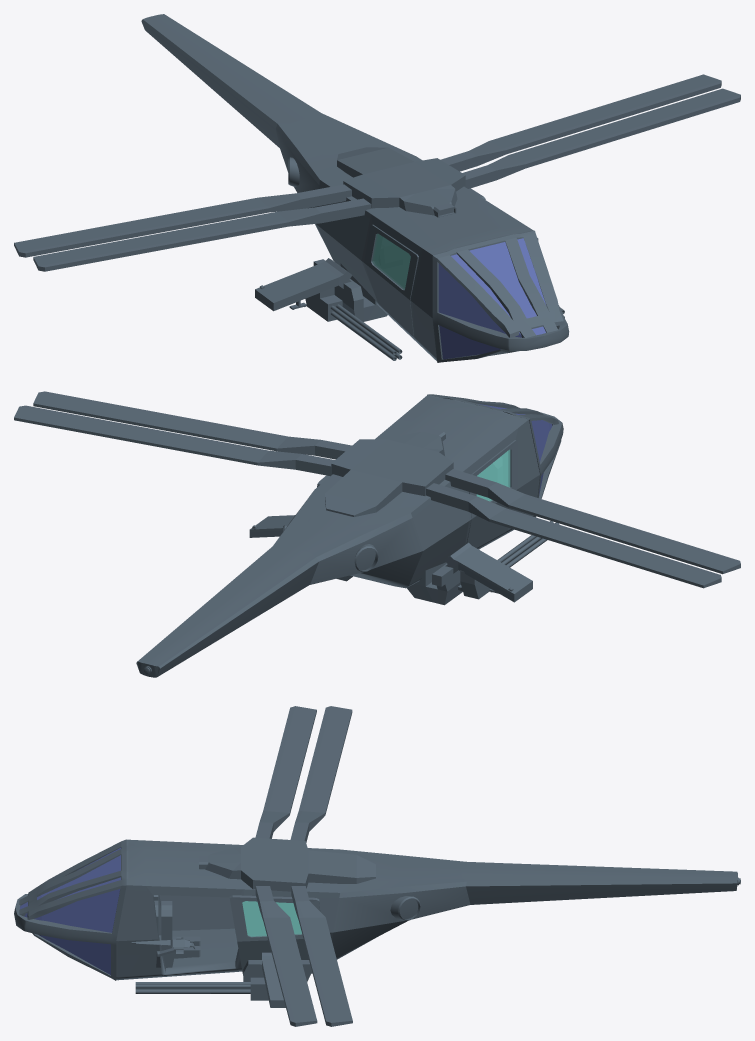
The model's file is Dragonfly.fbx.
The picture shows the model from 3 angles, top to bottom: view 1: azimuth 30°, elevation 25°; view 2: azimuth 150°, elevation 25°; view 3: azimuth 270°, elevation 25°; orthographic projection. The views are drawn at different scales.
Parts seen in each view (by area): view 1: dragonfly_hull, backblade.001, forwardblade.001, forwardblade, backblade, door_right, barrel.001; view 2: dragonfly_hull, backblade.001, forwardblade.001, backblade, forwardblade, door_right, barrel.001; view 3: dragonfly_hull, forwardblade, backblade, backblade.001, forwardblade.001, door_left, door_right, barrel.
Boxes of the visible parts, bbox=[...] form: dragonfly_hull: bbox=[141, 14, 569, 362]; backblade.001: bbox=[14, 184, 351, 257]; forwardblade.001: bbox=[33, 198, 372, 271]; forwardblade: bbox=[462, 88, 740, 188]; backblade: bbox=[440, 74, 721, 171]; door_right: bbox=[364, 224, 418, 335]; barrel.001: bbox=[330, 304, 402, 360]; dragonfly_hull: bbox=[136, 394, 563, 677]; backblade.001: bbox=[426, 483, 721, 588]; forwardblade.001: bbox=[445, 469, 740, 574]; backblade: bbox=[14, 405, 334, 476]; forwardblade: bbox=[33, 391, 351, 459]; door_right: bbox=[466, 440, 517, 547]; barrel.001: bbox=[497, 521, 559, 567]; dragonfly_hull: bbox=[14, 837, 740, 1007]; forwardblade: bbox=[255, 886, 317, 1026]; backblade: bbox=[291, 886, 352, 1026]; backblade.001: bbox=[290, 706, 352, 842]; forwardblade.001: bbox=[255, 706, 316, 838]; door_left: bbox=[229, 895, 320, 975]; door_right: bbox=[159, 895, 234, 930]; barrel: bbox=[135, 982, 250, 993].
Size of the model in its own units: 616 by 97.9 by 597.
